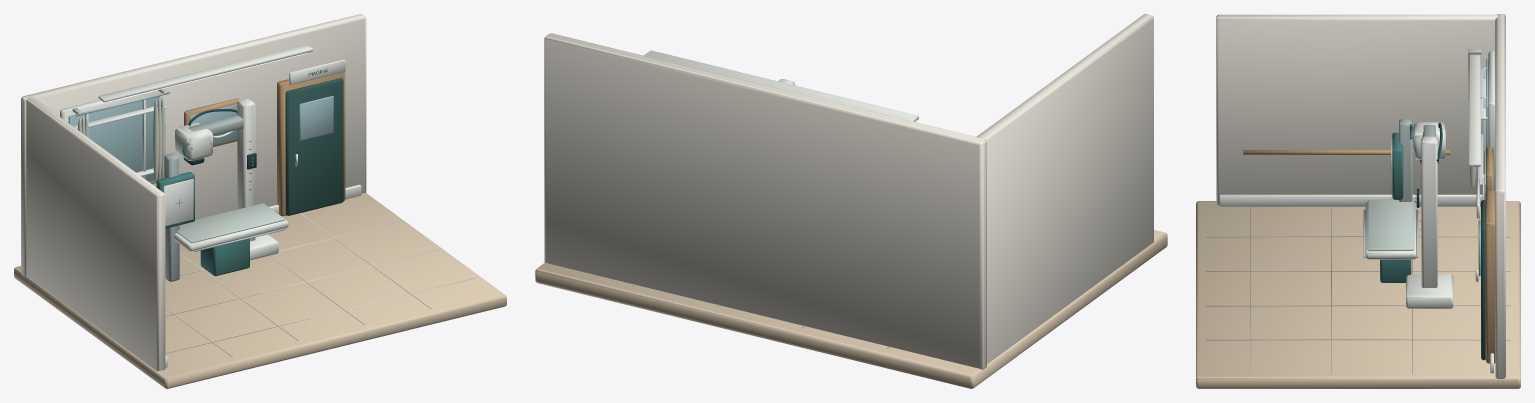
File: xray.glb
3 views of the same model, side by side, from view 1: azimuth 30°, elevation 25°; view 2: azimuth 150°, elevation 25°; view 3: azimuth 270°, elevation 25° (orthographic). The views are drawn at different scales.
Parts seen in each view (by area): view 1: Floor, SideWall, RearWall, Door, Window, TablePad, DoorFrame, VerticalSupport, LightHousing, TablePedestal, VisionPanel, DetectorSurface (+12 smaller); view 2: RearWall, SideWall, Floor, LightHousing; view 3: Floor, SideWall, RearWall, SideSkirting, VerticalSupport, TablePad, DoorFrame, GeneratorBase, LightHousing, WindowFrame, DetectorStand, Door (+9 smaller).
Part boxes in pixels (x1=…): Floor: x1=14, y1=193, x2=506, y2=388; SideWall: x1=26, y1=97, x2=165, y2=371; RearWall: x1=21, y1=14, x2=366, y2=276; Door: x1=285, y1=78, x2=343, y2=215; Window: x1=68, y1=96, x2=160, y2=181; TablePad: x1=176, y1=203, x2=285, y2=243; DoorFrame: x1=277, y1=71, x2=345, y2=216; VerticalSupport: x1=237, y1=98, x2=255, y2=241; LightHousing: x1=98, y1=45, x2=312, y2=102; TablePedestal: x1=200, y1=238, x2=249, y2=276; VisionPanel: x1=299, y1=96, x2=333, y2=140; DetectorSurface: x1=163, y1=179, x2=193, y2=226; RearWall: x1=544, y1=33, x2=986, y2=369; SideWall: x1=976, y1=14, x2=1153, y2=363; Floor: x1=535, y1=230, x2=1167, y2=388; LightHousing: x1=644, y1=50, x2=918, y2=121; Floor: x1=1196, y1=201, x2=1520, y2=388; SideWall: x1=1216, y1=14, x2=1497, y2=205; RearWall: x1=1495, y1=14, x2=1505, y2=378; SideSkirting: x1=1219, y1=194, x2=1482, y2=206; VerticalSupport: x1=1421, y1=136, x2=1437, y2=287; TablePad: x1=1367, y1=200, x2=1414, y2=250; DoorFrame: x1=1485, y1=190, x2=1495, y2=363; GeneratorBase: x1=1406, y1=274, x2=1453, y2=308; LightHousing: x1=1469, y1=55, x2=1480, y2=166; WindowFrame: x1=1488, y1=51, x2=1495, y2=190; DetectorStand: x1=1399, y1=119, x2=1412, y2=201; Door: x1=1481, y1=200, x2=1485, y2=360.
Bounding box in the file's own units: 6.2 × 3.25 × 4.8.
